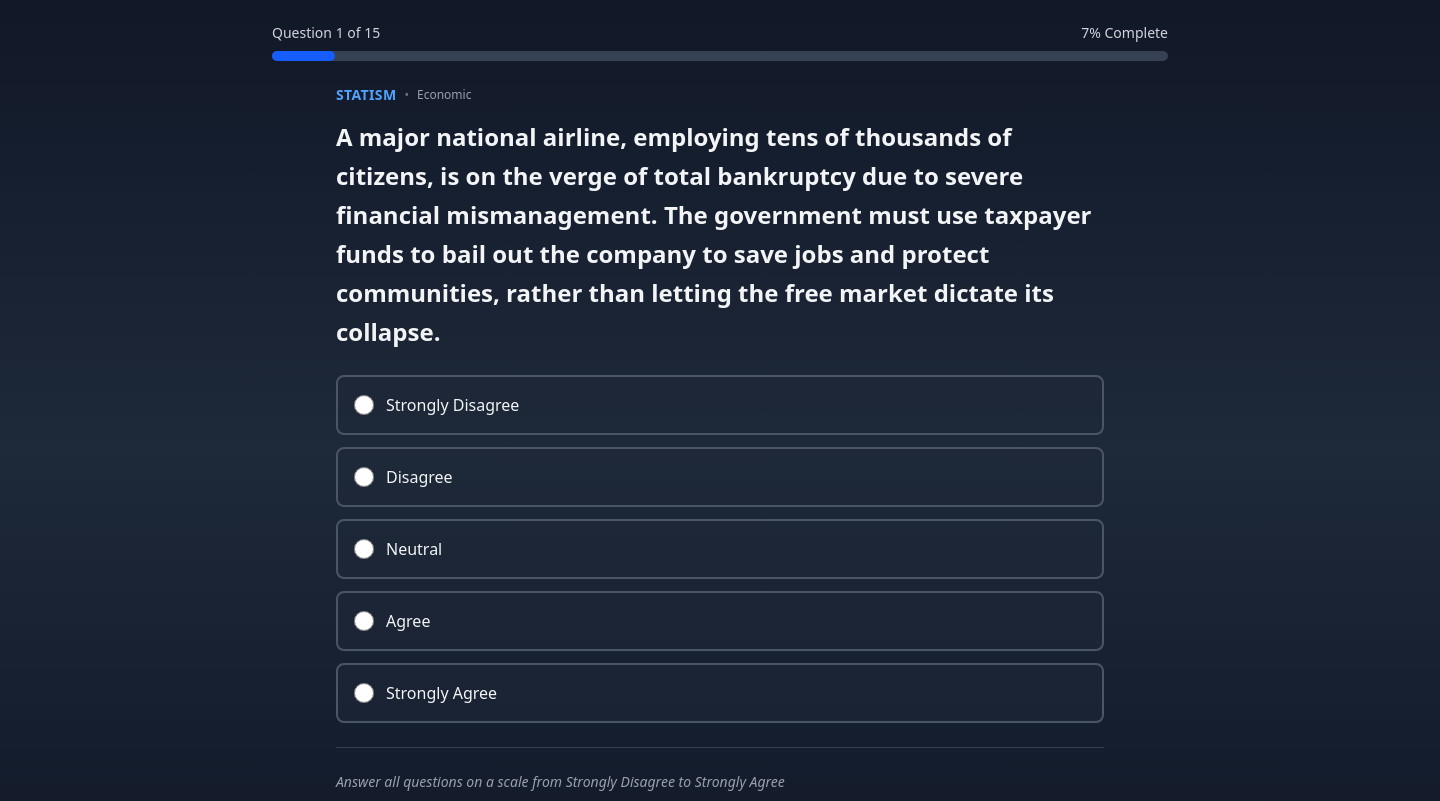
Test case: QuizContainer › enables Next button when current question is answered
This screenshot has width=1440, height=801.
Click the radio button labelled "Agree".
click(364, 621)  # box top-left (354, 611), bottom-right (374, 631)
(page scrolled)
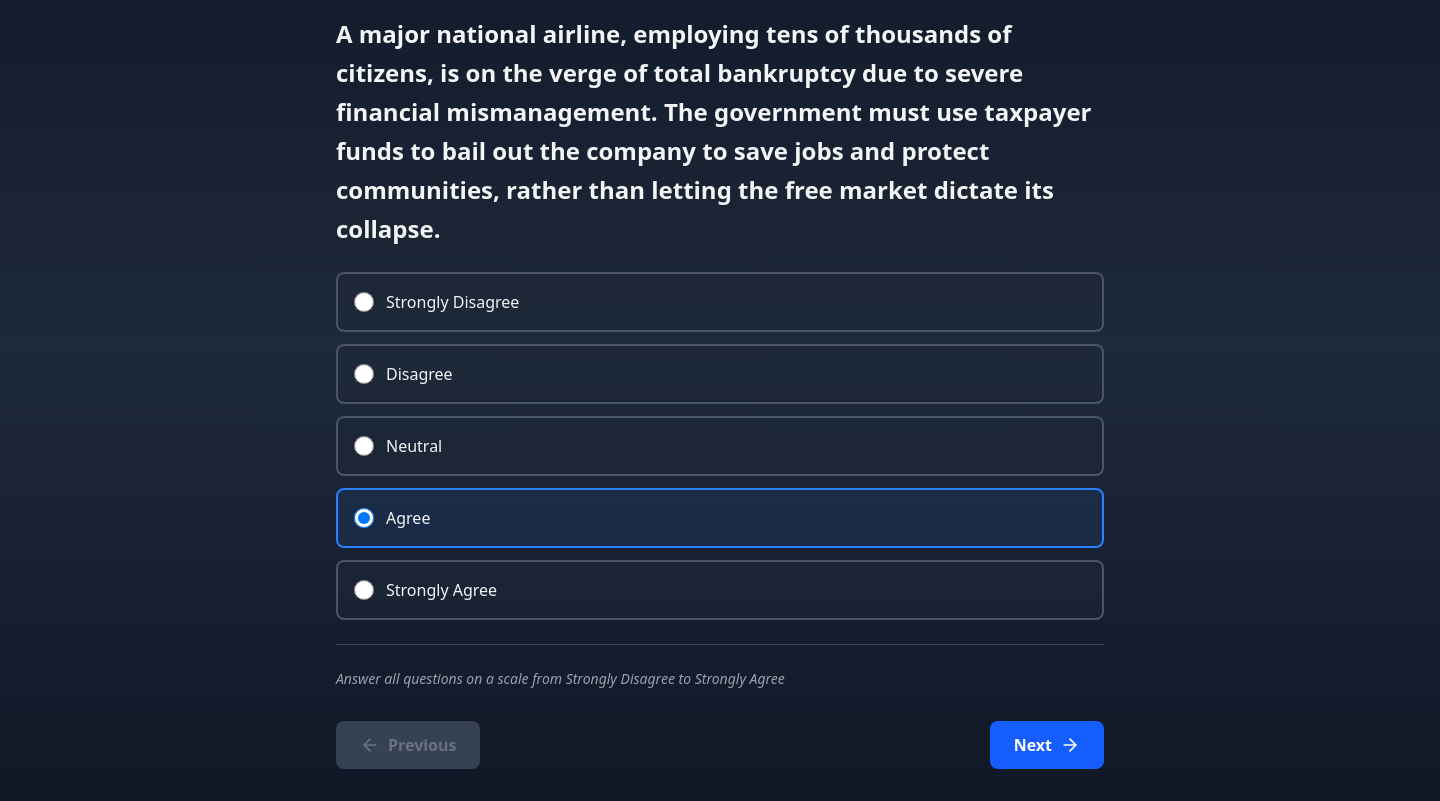
expect the button "Next" is enabled: met, box top-left (990, 721), bottom-right (1104, 769)
